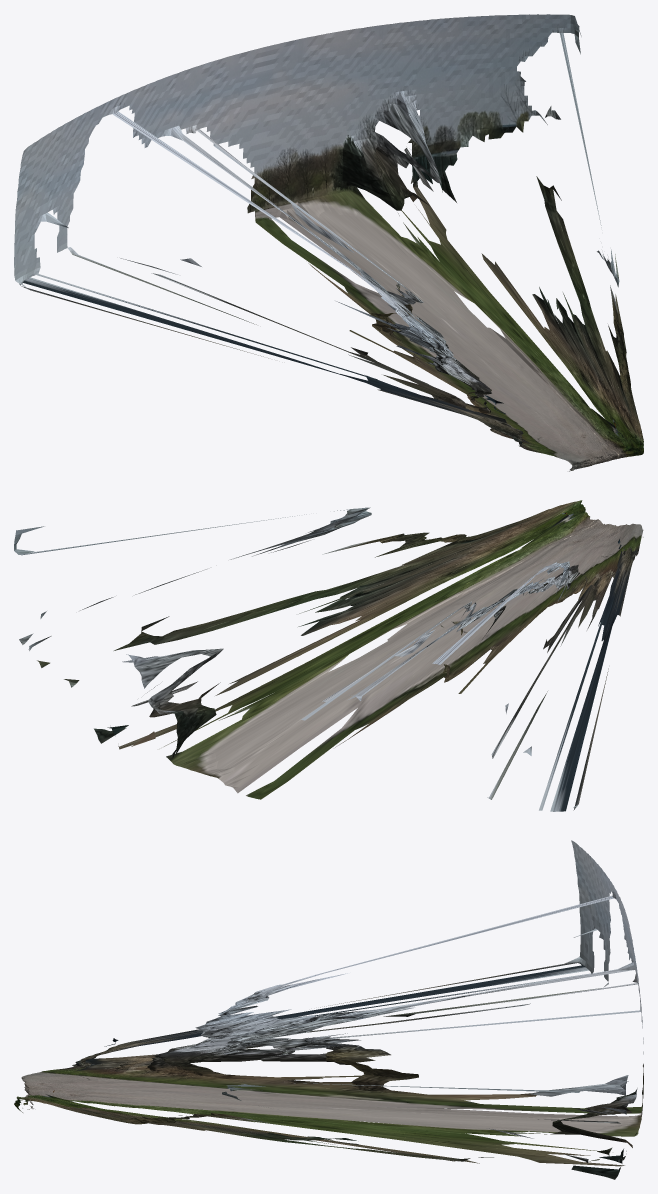
The picture shows the model from 3 angles, top to bottom: view 1: azimuth 30°, elevation 25°; view 2: azimuth 150°, elevation 25°; view 3: azimuth 270°, elevation 25°; orthographic projection. The views are drawn at different scales.
Visible parts, largest first — view 1: defaultobject; view 2: defaultobject; view 3: defaultobject.
Boxes of the visible parts, box(x1,y1,x2,y2) form: defaultobject: box(14, 14, 643, 471); defaultobject: box(14, 500, 643, 811); defaultobject: box(14, 840, 643, 1179).
Size of the model in its own units: 40.72 by 12.66 by 44.73.
1 material, 1 textured.
